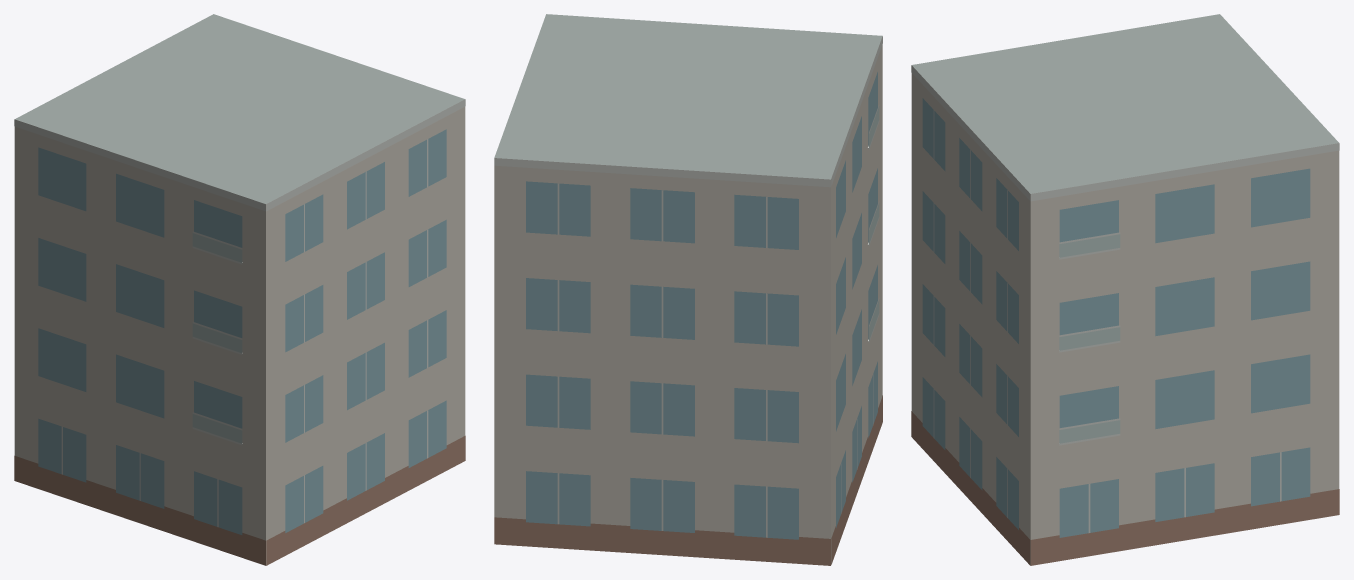
File: residential-b3314d7f-8fec-4851-891e-1e6bd5db1d9a.glb
The picture shows the model from 3 angles, left to right: view 1: azimuth 30°, elevation 25°; view 2: azimuth 150°, elevation 25°; view 3: azimuth 270°, elevation 25°; orthographic projection. The views are drawn at different scales.
Parts seen in each view (by area): view 1: residential-b3314d7f-8fec-4851-891e-1e6bd5db1d9a.tmp; view 2: residential-b3314d7f-8fec-4851-891e-1e6bd5db1d9a.tmp; view 3: residential-b3314d7f-8fec-4851-891e-1e6bd5db1d9a.tmp.
Boxes of the visible parts, x1,y1,x2,y2 form: residential-b3314d7f-8fec-4851-891e-1e6bd5db1d9a.tmp: (14, 14, 465, 565); residential-b3314d7f-8fec-4851-891e-1e6bd5db1d9a.tmp: (494, 14, 882, 565); residential-b3314d7f-8fec-4851-891e-1e6bd5db1d9a.tmp: (911, 14, 1339, 565).
Bounding box in the file's own units: 12.68 × 12.2 × 12.73.
